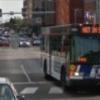buses: (39, 24, 100, 94)
